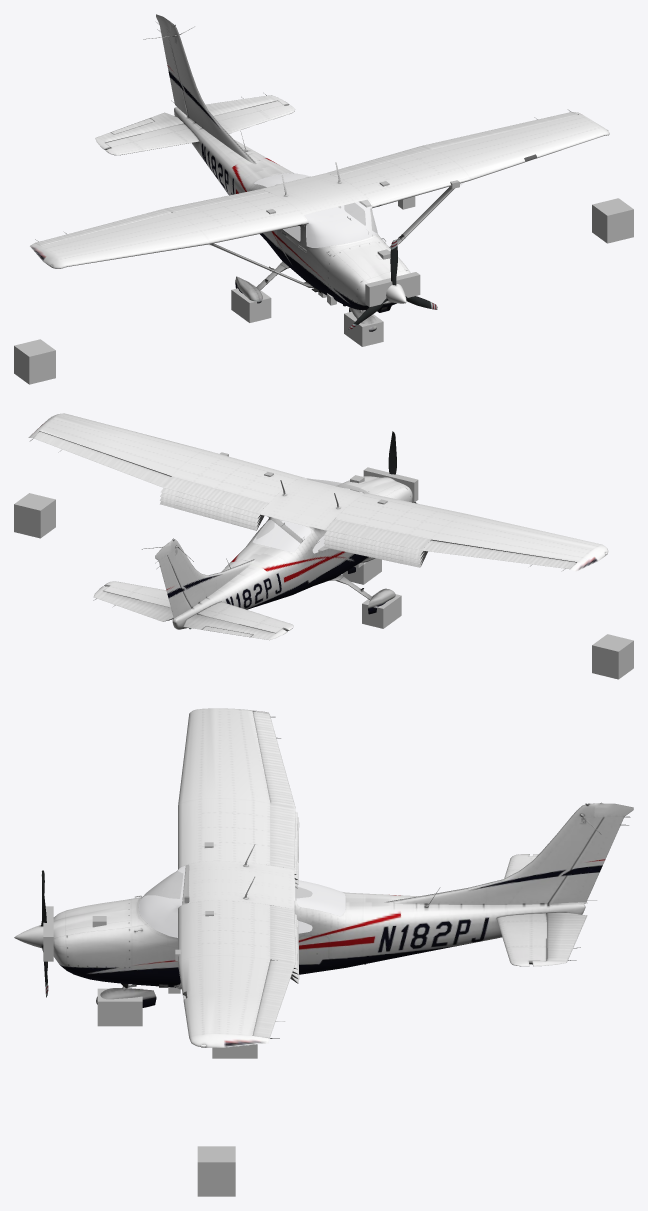
The picture shows the model from 3 angles, top to bottom: view 1: azimuth 30°, elevation 25°; view 2: azimuth 150°, elevation 25°; view 3: azimuth 270°, elevation 25°; orthographic projection. The views are drawn at different scales.
Parts seen in each view (by area): view 1: Exterior, Pose_flaps_0, Spin_0; view 2: Exterior, Pose_flaps_0, Pose_flaps_1, Pose_flaps_2, Pose_flaps_3, Pose_flaps_4; view 3: Exterior, Pose_flaps_0.
Part boxes in pixels (x1,y1,x2,y2): Exterior: (14,14,633,384); Pose_flaps_0: (164,145,431,212); Spin_0: (348,239,437,329); Exterior: (14,413,633,679); Pose_flaps_0: (162,476,431,550); Pose_flaps_1: (161,488,424,555); Pose_flaps_2: (160,492,425,559); Pose_flaps_3: (160,497,425,564); Pose_flaps_4: (160,501,427,567); Exterior: (14,708,633,1196); Pose_flaps_0: (270,803,295,963).
Bounding box in the file's own units: 11.84 × 3.27 × 8.5.
Materials: 10 (6 with a texture image).
